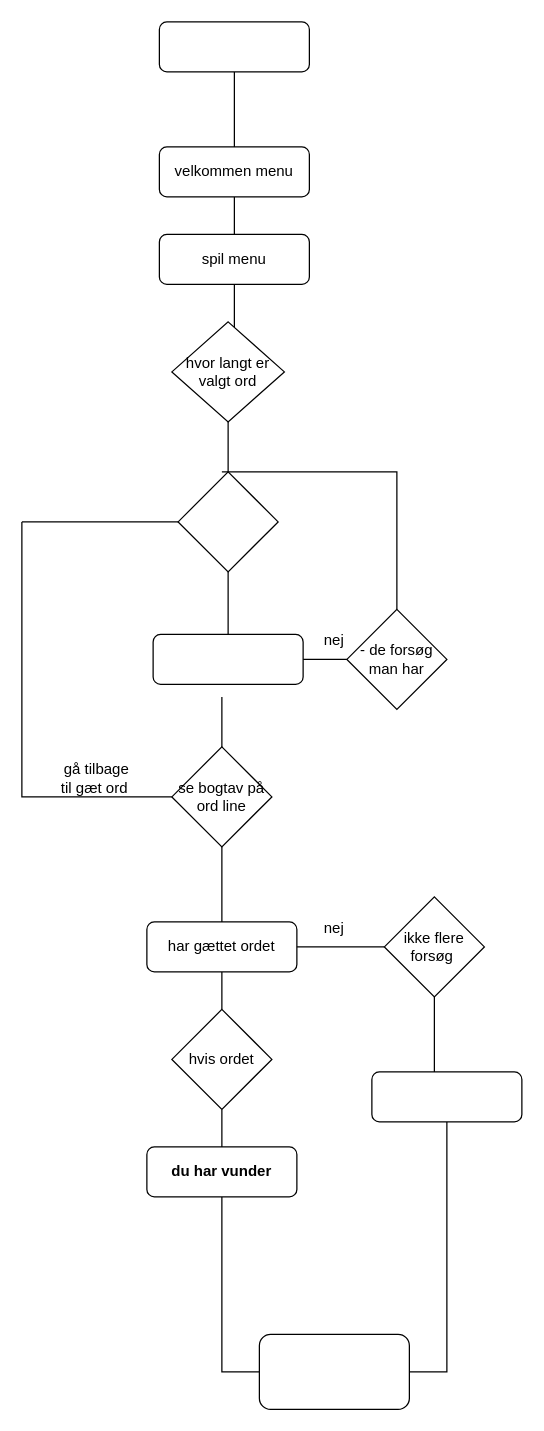
The diagram is 544 pixels wide and 1431 high, and some of its shapes have lost their labels. The box of each missing label's shape, as (x1, y1, x2, y2) in pixels:
afslut: (258, 1333, 409, 1409)
du hr tabt: (371, 1071, 522, 1122)
er det rigtigt: (152, 633, 303, 684)
gæt et bogstav: (177, 471, 278, 572)
hangman: (158, 21, 309, 72)
